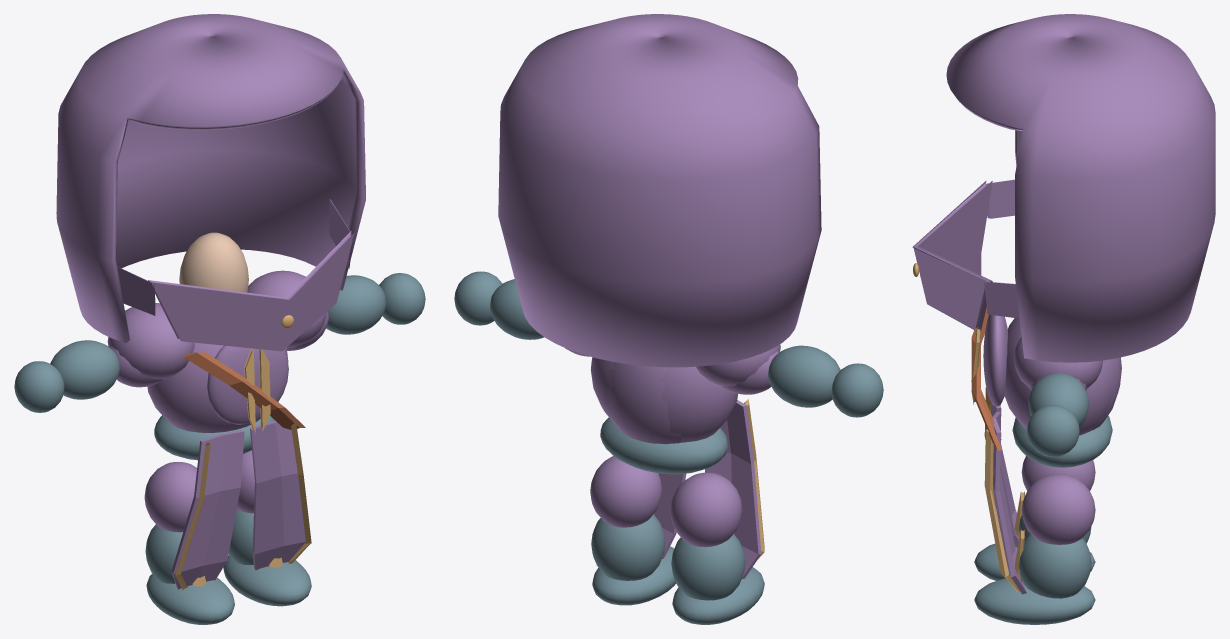
Rendered from rogue-casual-v2.glb.
3 views of the same model, side by side, from view 1: azimuth 30°, elevation 25°; view 2: azimuth 150°, elevation 25°; view 3: azimuth 270°, elevation 25° (orthographic). The views are drawn at different scales.
Visible parts, largest first — view 1: TLL_head, TLL_hips, TLL_chest, TLL_upperarmr, TLL_lowerarmr, TLL_footr, TLL_footl, TLL_upperlegr, TLL_lowerarml, TLL_handr, TLL_handl, TLL_upperarml (+3 smaller); view 2: TLL_head, TLL_hips, TLL_chest, TLL_upperlegr, TLL_upperlegl, TLL_lowerlegl, TLL_lowerlegr, TLL_lowerarmr, TLL_footr, TLL_footl, TLL_handr, TLL_upperarmr (+2 smaller); view 3: TLL_head, TLL_chest, TLL_hips, TLL_upperlegl, TLL_lowerlegl, TLL_footl, TLL_handl, TLL_lowerarml, TLL_upperarml, TLL_upperlegr, TLL_footr.
Part boxes in pixels (box(x1,y1,x2,y2)): TLL_head: box(56, 14, 365, 351); TLL_hips: box(154, 415, 311, 589); TLL_chest: box(147, 232, 305, 433); TLL_upperarmr: box(107, 303, 194, 387); TLL_lowerarmr: box(50, 340, 119, 399); TLL_footr: box(146, 574, 234, 624); TLL_footl: box(223, 555, 311, 606); TLL_upperlegr: box(144, 462, 196, 532); TLL_lowerarml: box(326, 275, 386, 334); TLL_handr: box(14, 361, 64, 412); TLL_handl: box(379, 273, 425, 324); TLL_upperarml: box(247, 270, 328, 350); TLL_head: box(498, 14, 821, 367); TLL_hips: box(600, 399, 764, 578); TLL_chest: box(590, 357, 737, 444); TLL_upperlegr: box(670, 472, 742, 547); TLL_upperlegl: box(590, 456, 662, 527); TLL_lowerlegl: box(591, 513, 665, 580); TLL_lowerlegr: box(671, 532, 745, 600); TLL_lowerarmr: box(768, 345, 840, 407); TLL_footr: box(672, 567, 764, 624); TLL_footl: box(592, 546, 676, 605); TLL_handr: box(831, 363, 883, 417); TLL_upperarmr: box(696, 344, 780, 394); TLL_head: box(912, 14, 1215, 362); TLL_chest: box(971, 307, 1121, 450); TLL_hips: box(984, 387, 1112, 594); TLL_upperlegl: box(1021, 474, 1095, 544); TLL_lowerlegl: box(1015, 529, 1091, 598); TLL_footl: box(974, 578, 1095, 624); TLL_handl: box(1027, 405, 1079, 456); TLL_lowerarml: box(1028, 372, 1088, 426); TLL_upperarml: box(1013, 337, 1102, 390); TLL_upperlegr: box(1021, 456, 1095, 490); TLL_footr: box(974, 543, 1095, 580).
Size of the model in its own units: 1.79 by 2.35 by 1.15.
